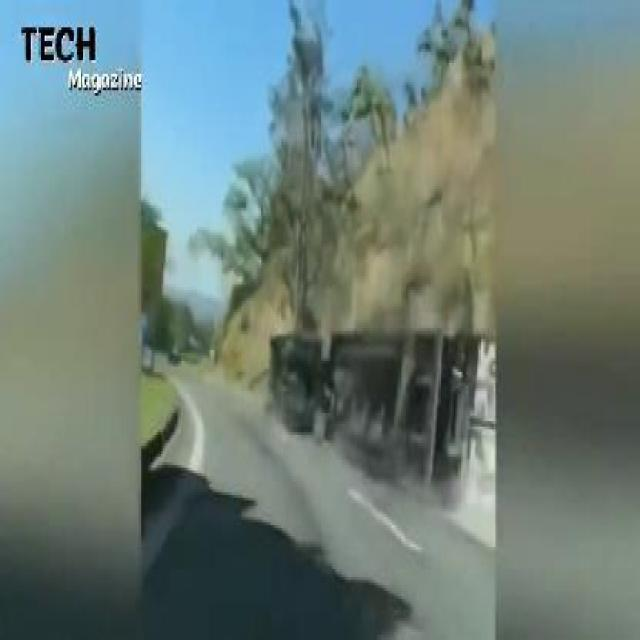accident: (257, 314, 494, 522)
